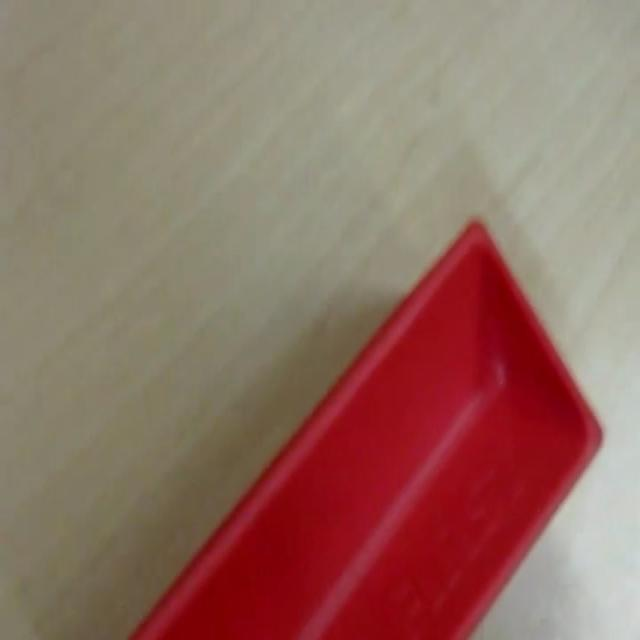red_block: (127, 215, 605, 637)
